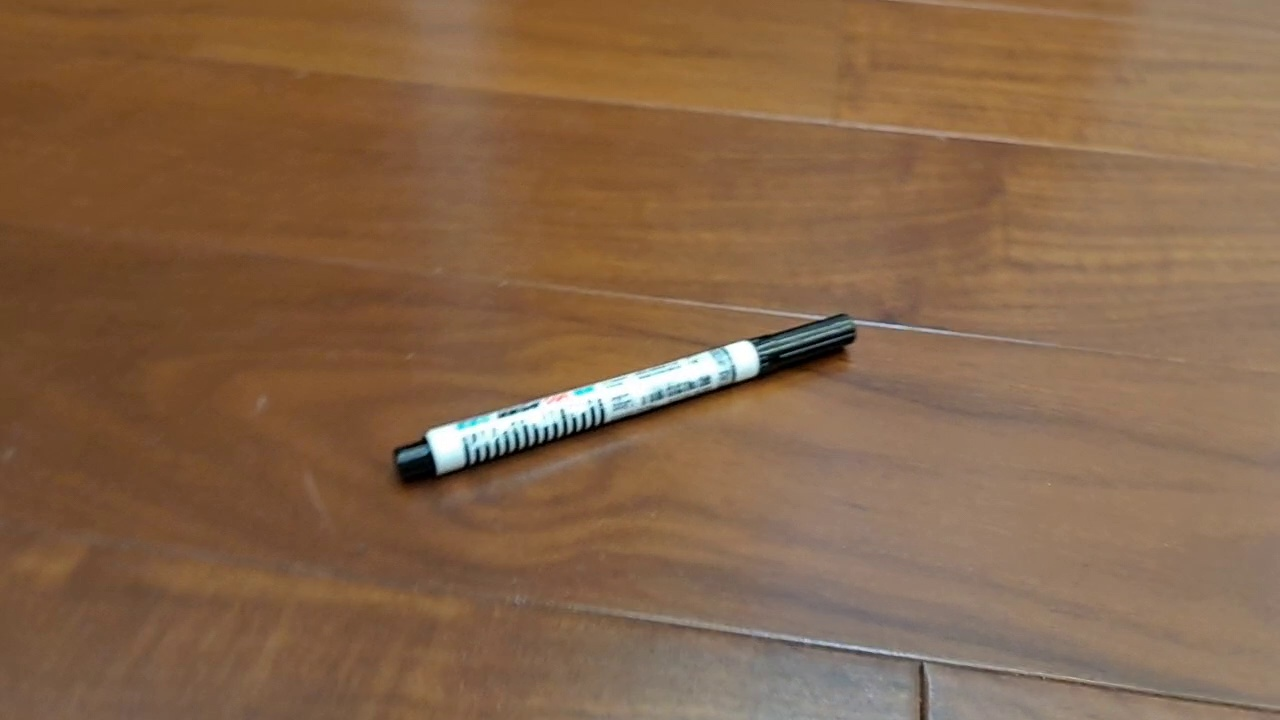pen: (392, 313, 857, 485)
